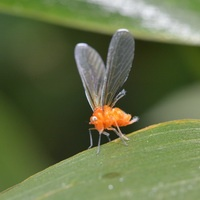insect: (74, 29, 138, 152)
